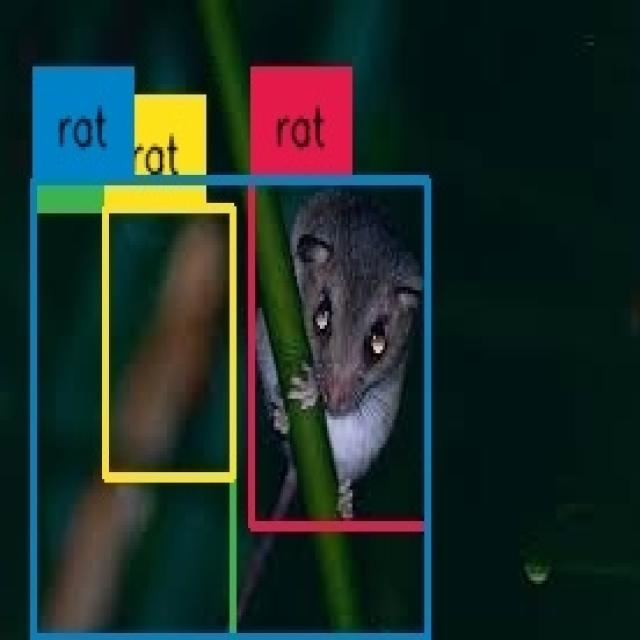rat: (34, 180, 428, 638), (34, 206, 233, 640), (250, 182, 427, 524), (107, 208, 232, 477)
